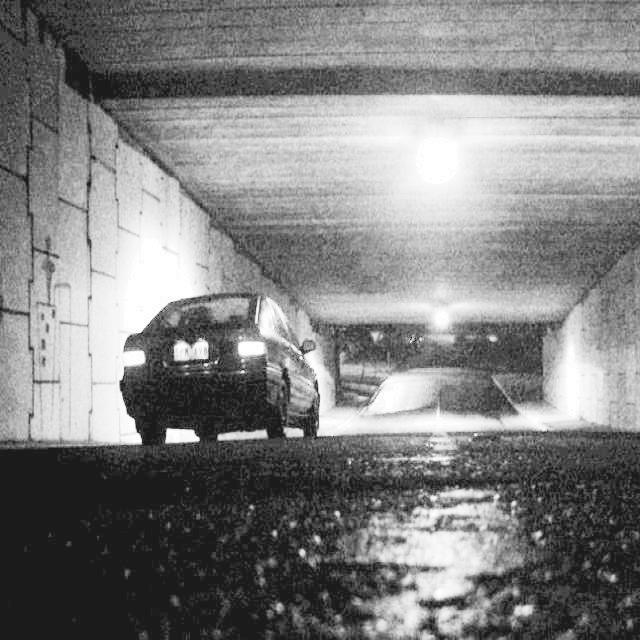Car: (120, 277, 333, 470)
